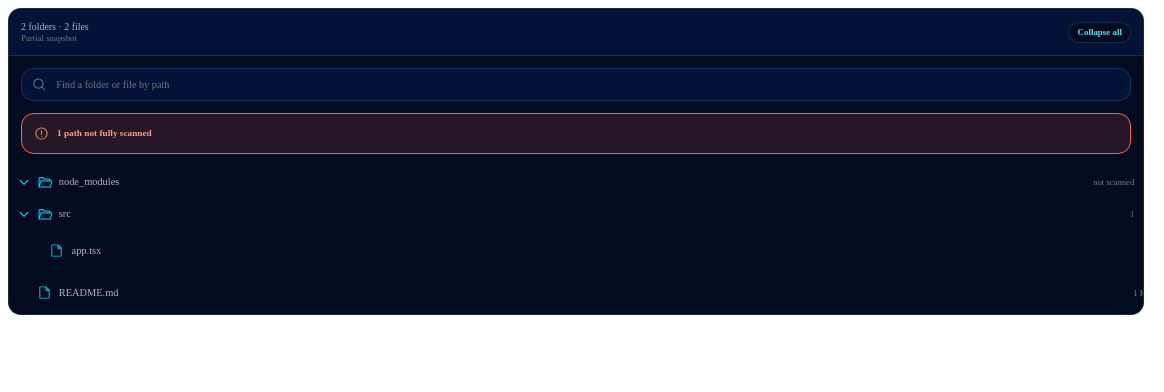
Scenario: WorkspaceTree › explains which paths were not scanned and why
This screenshot has width=1164, height=392.
Expected: the text "Partial snapshot" is shown, x1=21 y1=33 x2=77 y2=43
Expected: the text "not scanned" is shown, x1=1093 y1=177 x2=1134 y2=187
Click the heading "1 path not fully scanned". click: (93, 133)
box: x1=34 y1=126 x2=152 y2=141
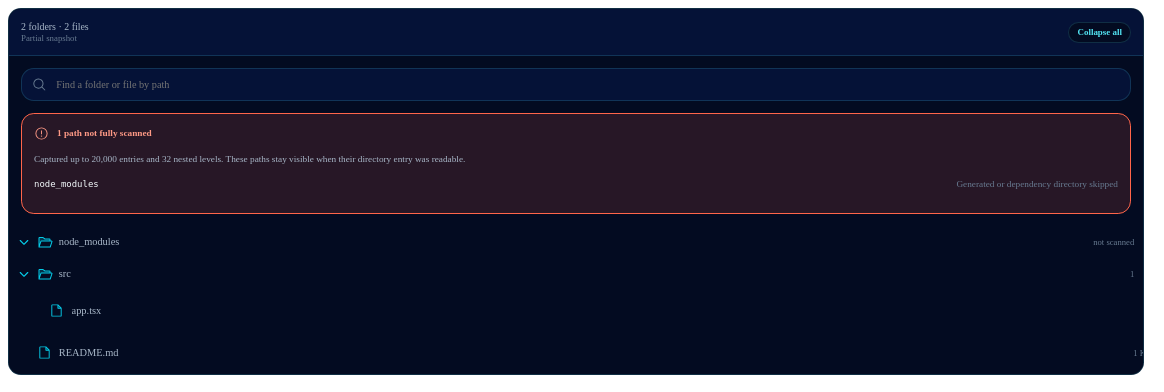
Result: the text "Generated or dependency directory skipped" is shown at x1=956 y1=178 x2=1118 y2=188
